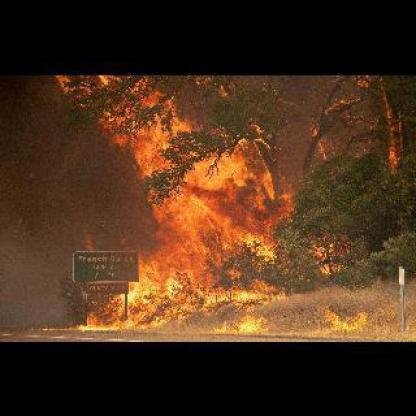fire: (62, 62, 369, 338)
